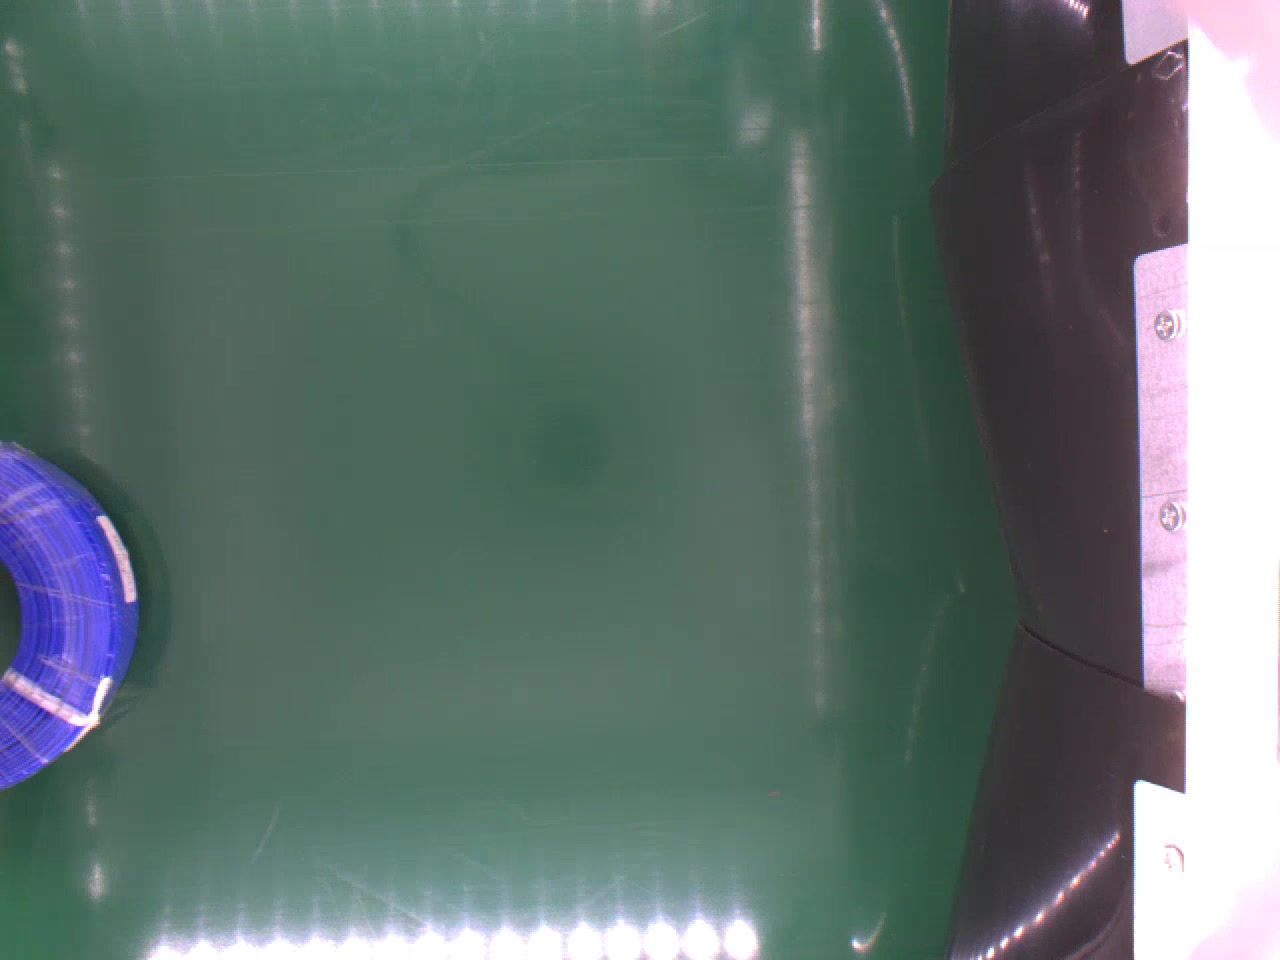blue: (0, 430, 143, 789)
